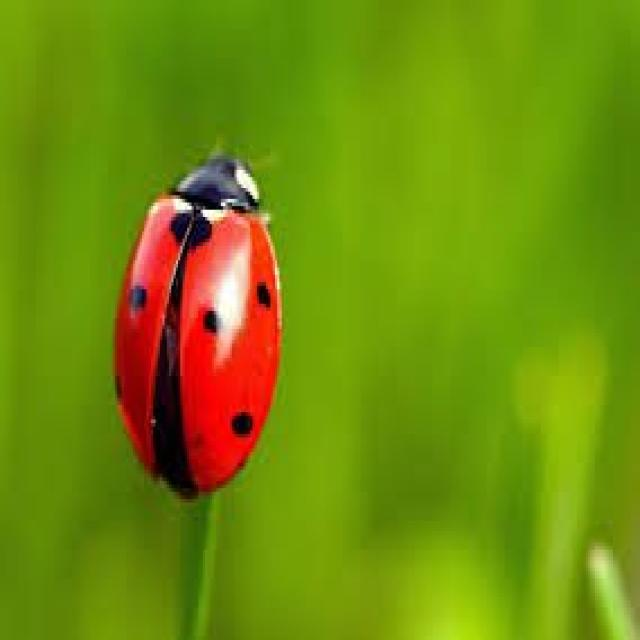ladybug: (115, 155, 279, 495)
